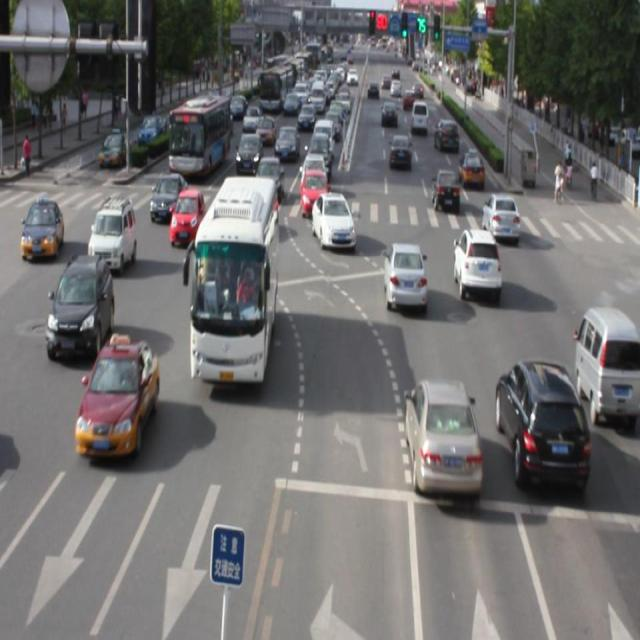car: (496, 359, 587, 490), (75, 336, 160, 458), (405, 375, 480, 495), (47, 254, 114, 361), (89, 195, 136, 270), (451, 227, 499, 297), (384, 240, 424, 310), (311, 196, 355, 253), (170, 188, 204, 247), (150, 172, 187, 221), (481, 191, 518, 239)
truck: (573, 302, 640, 422)
van: (190, 176, 278, 380)
